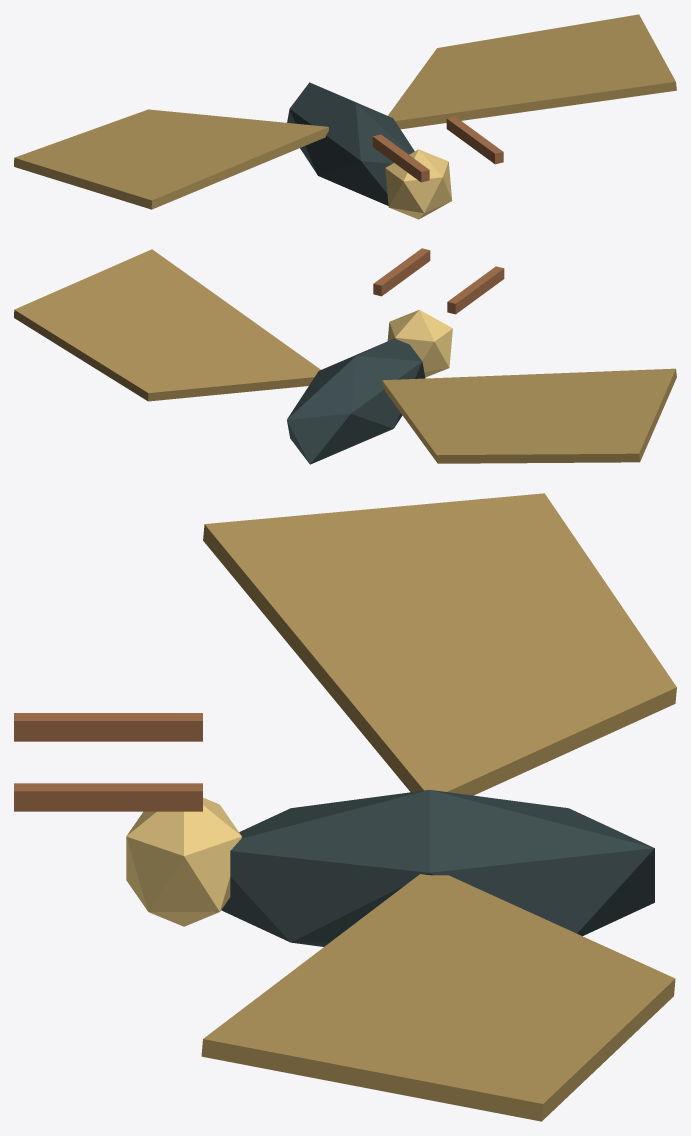
File: works_moth.glb
3 renders of one model, top to bottom at view 1: azimuth 30°, elevation 25°; view 2: azimuth 150°, elevation 25°; view 3: azimuth 270°, elevation 25°, orthographic. The views are drawn at different scales.
Visible parts, largest first — view 1: wing_1, wing_-1, body, eye.002, antenna, antenna.001; view 2: wing_1, wing_-1, body, eye.002, antenna, antenna.001; view 3: wing_-1, wing_1, body, eye.002, antenna, antenna.001.
Part boxes in pixels (<box>): wing_1: <box>388,14,676,129</box>; wing_-1: <box>14,109,328,209</box>; body: <box>287,82,414,205</box>; eye.002: <box>385,149,452,219</box>; antenna: <box>372,134,429,182</box>; antenna.001: <box>446,116,503,164</box>; wing_1: <box>14,249,320,401</box>; wing_-1: <box>382,368,676,463</box>; body: <box>287,338,425,464</box>; eye.002: <box>387,309,452,377</box>; antenna: <box>447,266,504,314</box>; antenna.001: <box>373,248,430,296</box>; wing_-1: <box>203,493,676,795</box>; wing_1: <box>201,874,675,1121</box>; body: <box>221,790,654,946</box>; eye.002: <box>126,797,241,926</box>; antenna: <box>14,713,202,741</box>; antenna.001: <box>14,783,202,811</box>.
Size of the model in its own units: 3.72 by 0.61 by 1.75.
